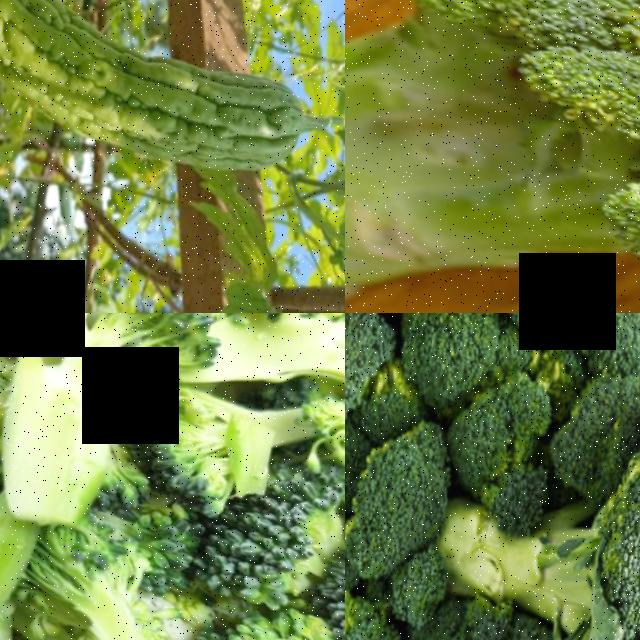bitter gourd: (0, 0, 342, 217)
broccoli: (345, 0, 640, 313), (345, 341, 640, 640), (148, 313, 345, 456), (88, 381, 276, 529), (143, 582, 345, 640), (268, 512, 345, 640)
